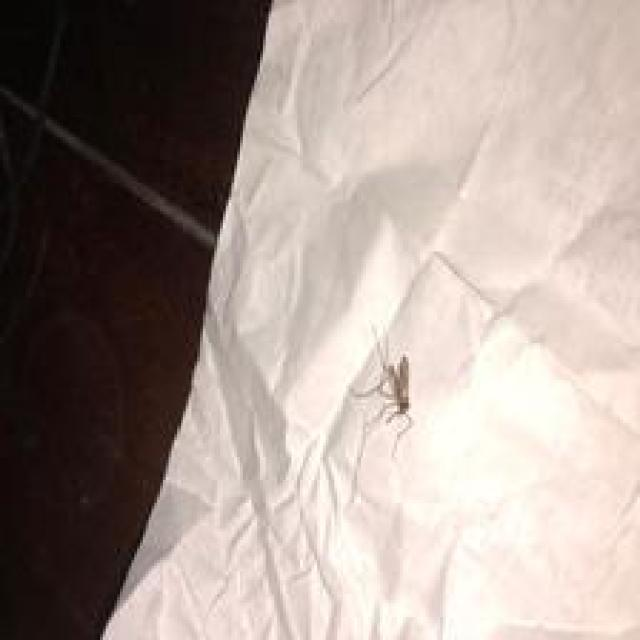Culex: (350, 326, 413, 426)
